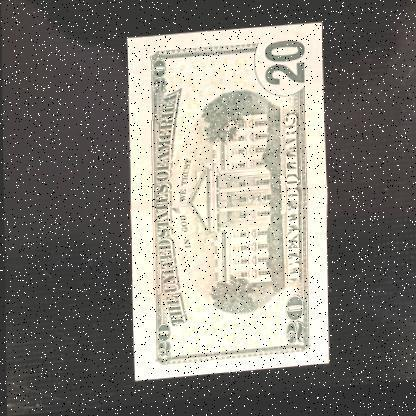dollar_back: (126, 25, 326, 384)
